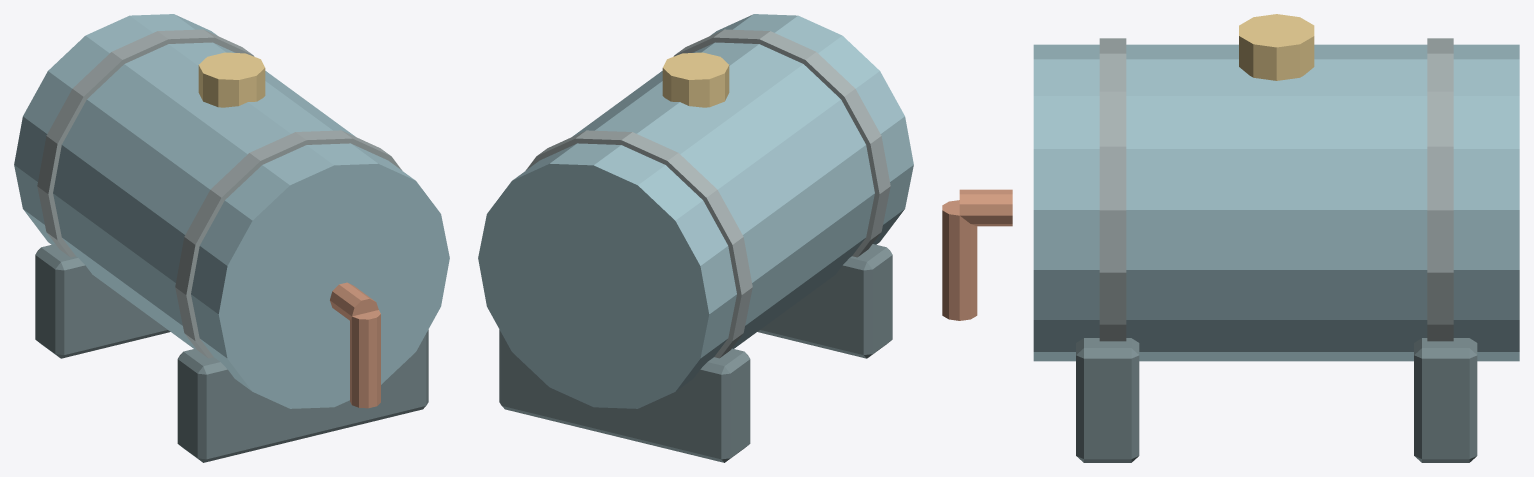
Rendered from tank.glb.
3 views of the same model, side by side, from view 1: azimuth 30°, elevation 25°; view 2: azimuth 150°, elevation 25°; view 3: azimuth 270°, elevation 25° (orthographic). The views are drawn at different scales.
Visible parts, largest first — view 1: tank; view 2: tank; view 3: tank.
Part boxes in pixels (x1,y1,x2,y2): tank: [14, 14, 449, 462]; tank: [478, 14, 913, 462]; tank: [942, 14, 1519, 462].
Bounding box in the file's own units: 0.624 × 0.77 × 1.09.
